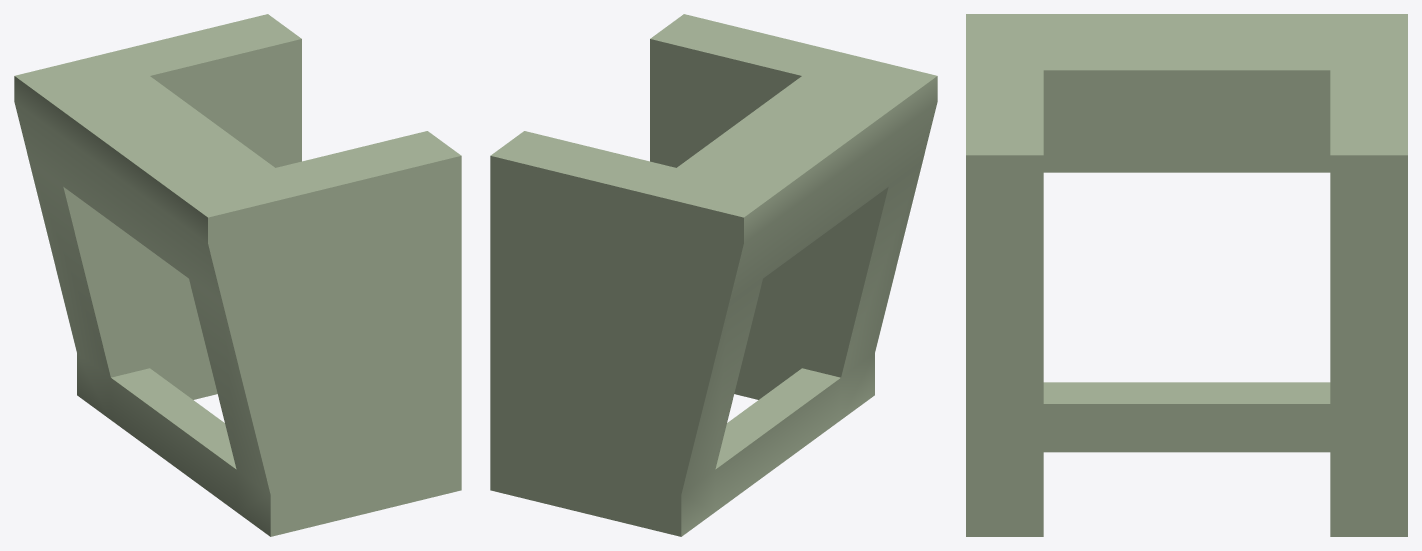
Rendered from Fireplace_02_Collider.fbx.
The picture shows the model from 3 angles, left to right: view 1: azimuth 30°, elevation 25°; view 2: azimuth 150°, elevation 25°; view 3: azimuth 270°, elevation 25°; orthographic projection. The views are drawn at different scales.
Visible parts, largest first — view 1: Fireplace_02_Collider; view 2: Fireplace_02_Collider; view 3: Fireplace_02_Collider.
Part boxes in pixels (bbox=[...]): Fireplace_02_Collider: bbox=[14, 14, 461, 536]; Fireplace_02_Collider: bbox=[490, 14, 937, 536]; Fireplace_02_Collider: bbox=[966, 14, 1407, 536].
Bounding box in the file's own units: 184 × 232 × 243.
